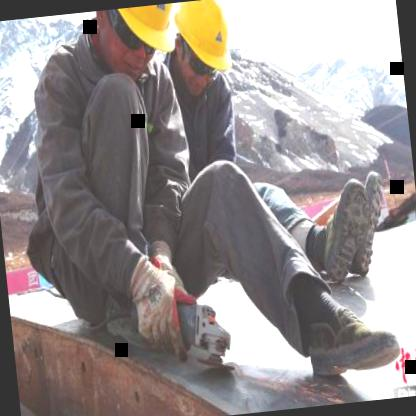helmet: (82, 2, 192, 92), (159, 0, 247, 101)
